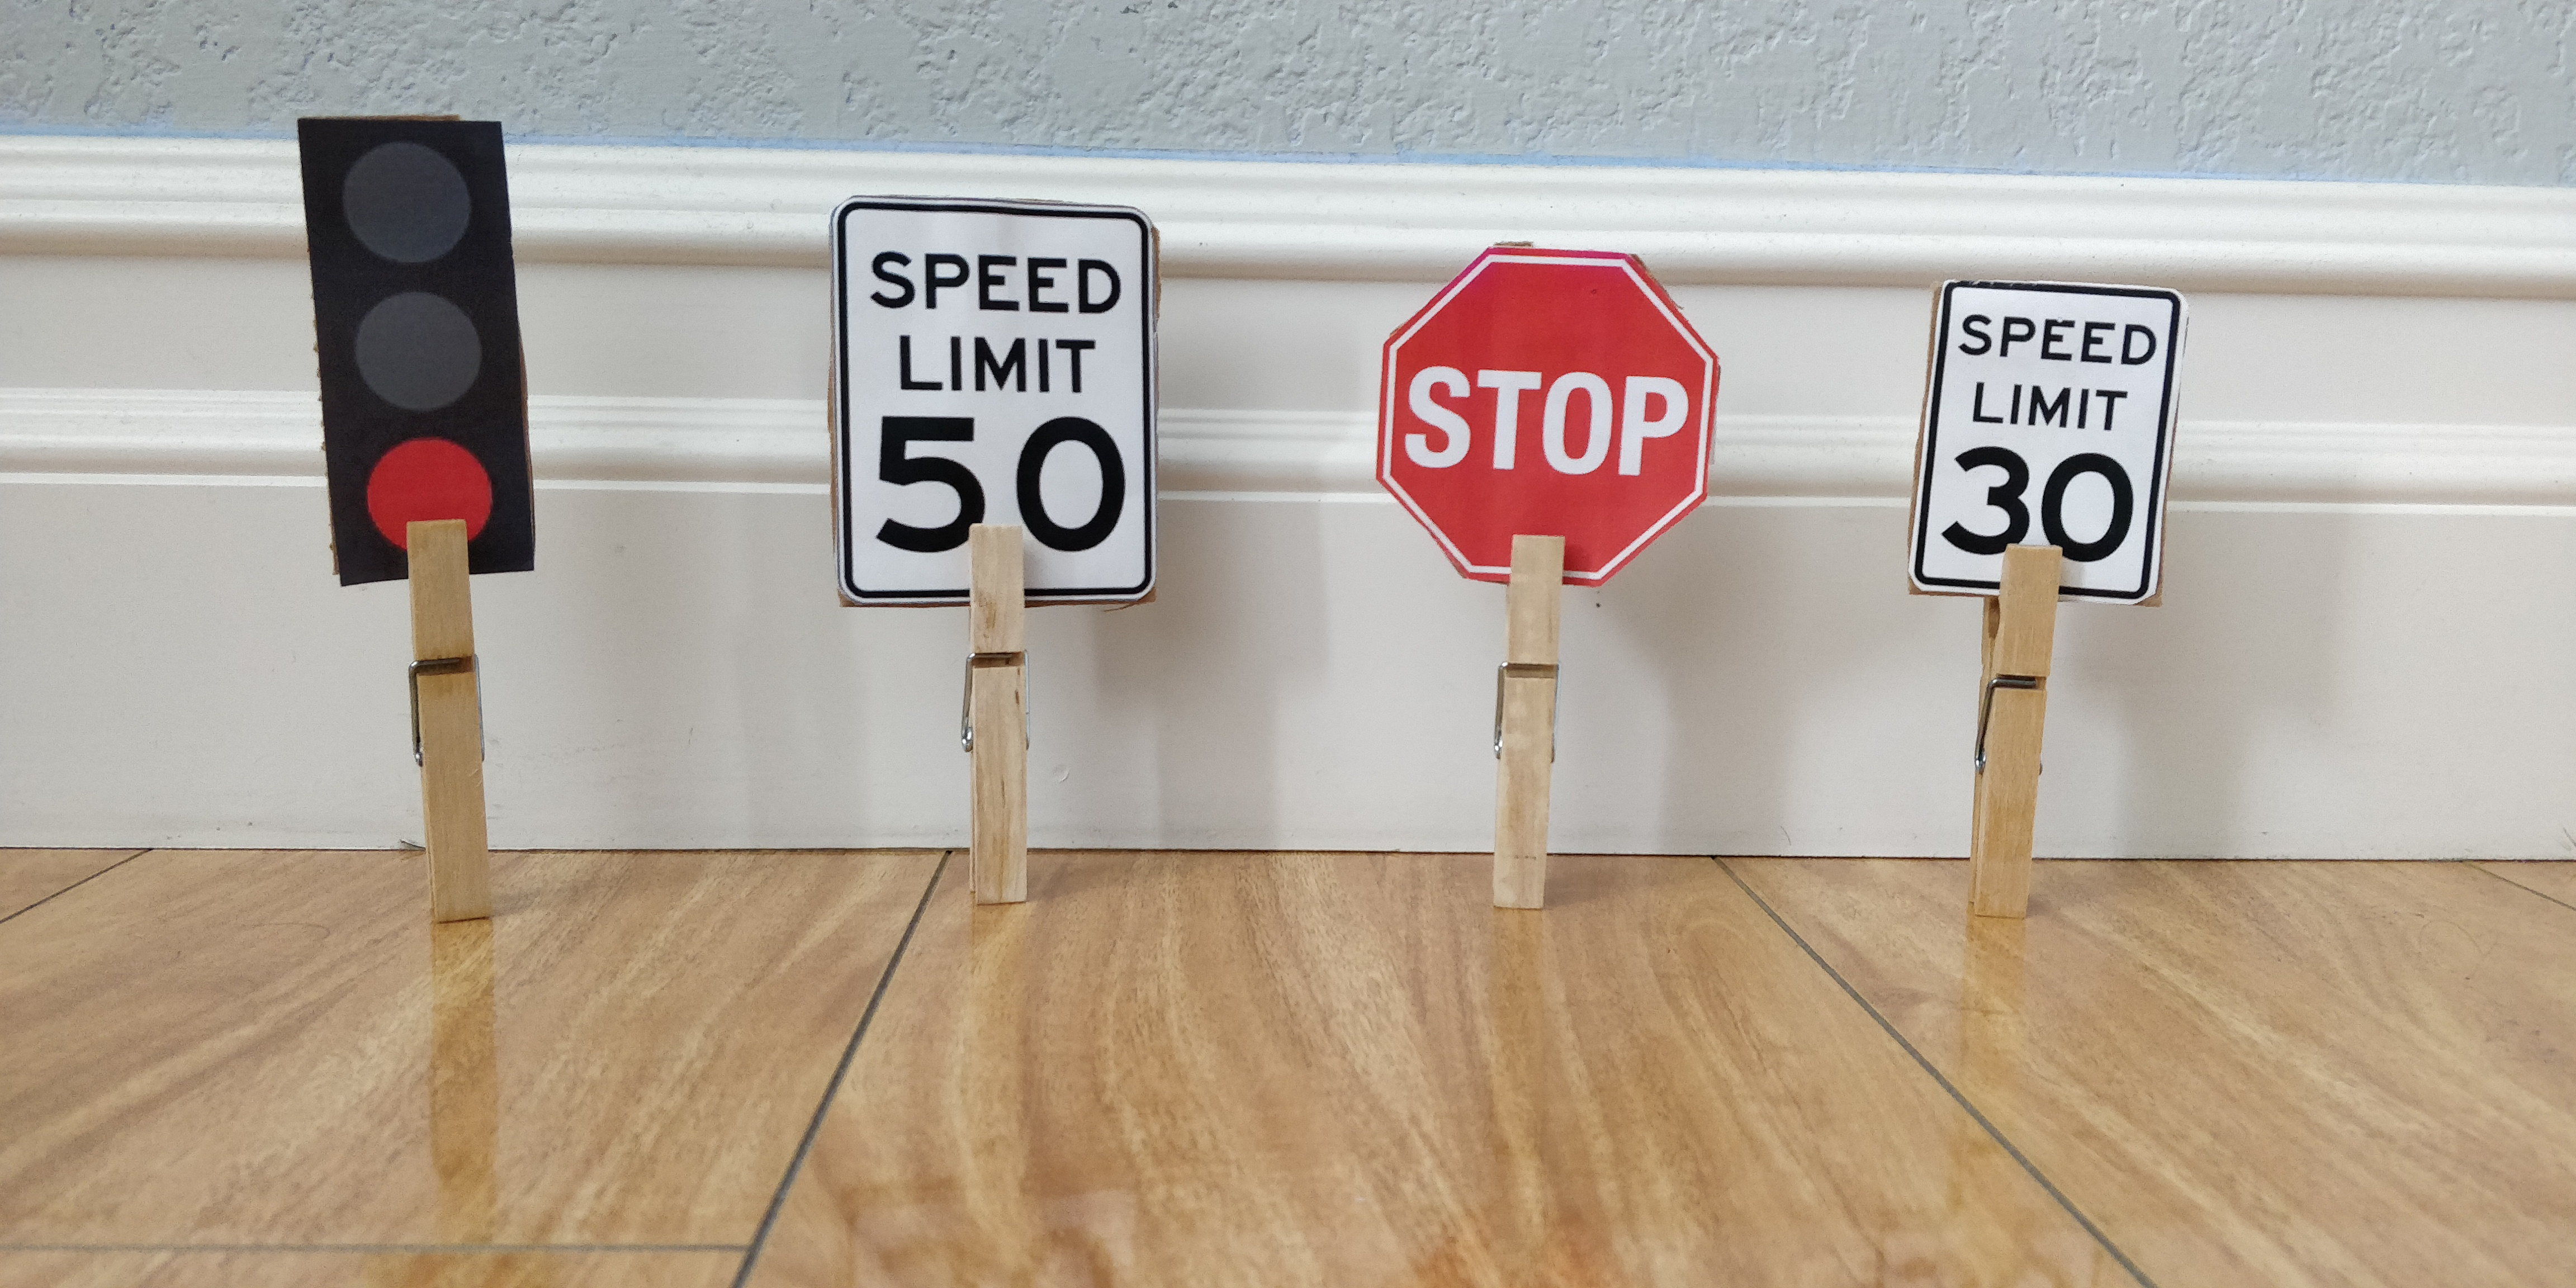Speed Limit 30: (1906, 269, 2190, 605)
Speed Limit 50: (833, 195, 1155, 608)
Stop Sign: (1378, 245, 1723, 585)
red light: (294, 118, 537, 586)
